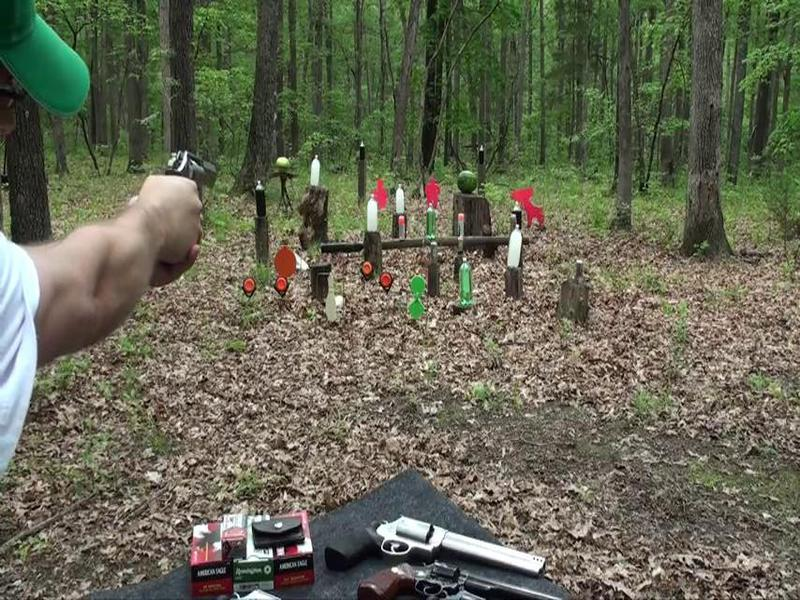Revolver: (148, 138, 228, 218)
